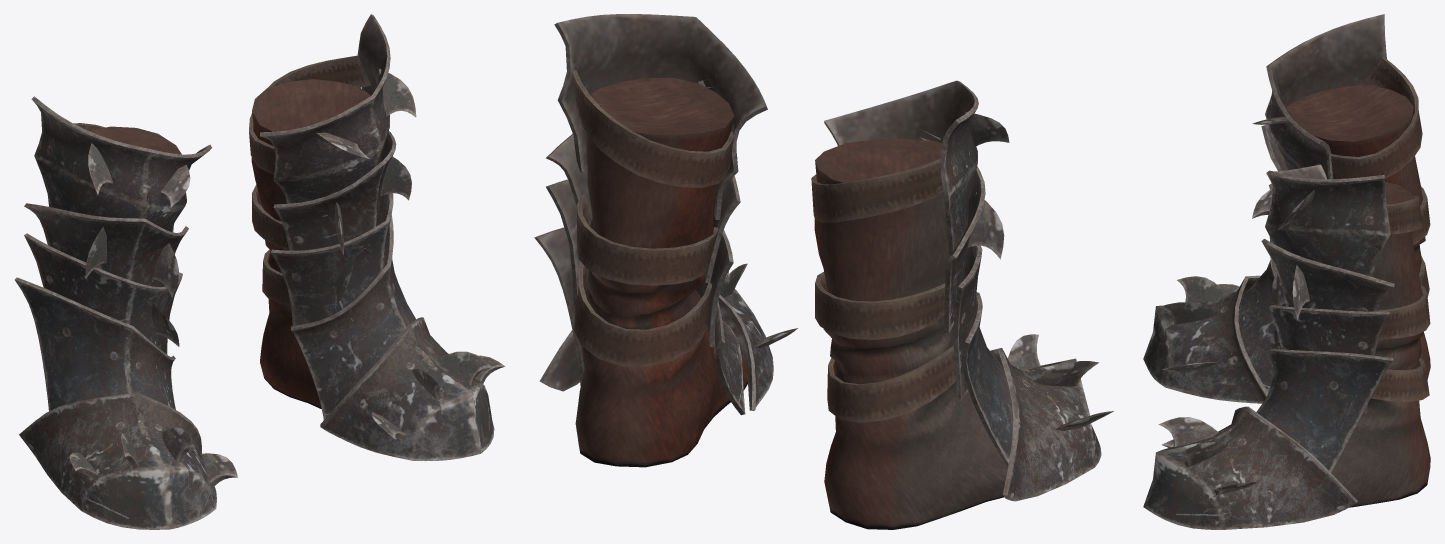
The model's file is sk_dg_uruk_boots_lord_b.fbx.
3 views of the same model, side by side, from view 1: azimuth 30°, elevation 25°; view 2: azimuth 150°, elevation 25°; view 3: azimuth 270°, elevation 25° (orthographic). The views are drawn at different scales.
Parts seen in each view (by area): view 1: sk_dg_uruk_boots_lord_b.0, sk_dg_uruk_boots_lord_b.1; view 2: sk_dg_uruk_boots_lord_b.0, sk_dg_uruk_boots_lord_b.1; view 3: sk_dg_uruk_boots_lord_b.0, sk_dg_uruk_boots_lord_b.1.
Boxes of the visible parts, left/top/right/bottom form: sk_dg_uruk_boots_lord_b.0: left=14, top=14, right=494, bottom=529; sk_dg_uruk_boots_lord_b.1: left=69, top=55, right=505, bottom=488; sk_dg_uruk_boots_lord_b.0: left=534, top=14, right=1101, bottom=529; sk_dg_uruk_boots_lord_b.1: left=572, top=29, right=1113, bottom=430; sk_dg_uruk_boots_lord_b.0: left=1143, top=14, right=1430, bottom=529; sk_dg_uruk_boots_lord_b.1: left=1158, top=49, right=1430, bottom=495.
Bounding box in the file's own units: 0.6157 × 0.3648 × 0.4808.
Materials: 2 (2 with a texture image).
